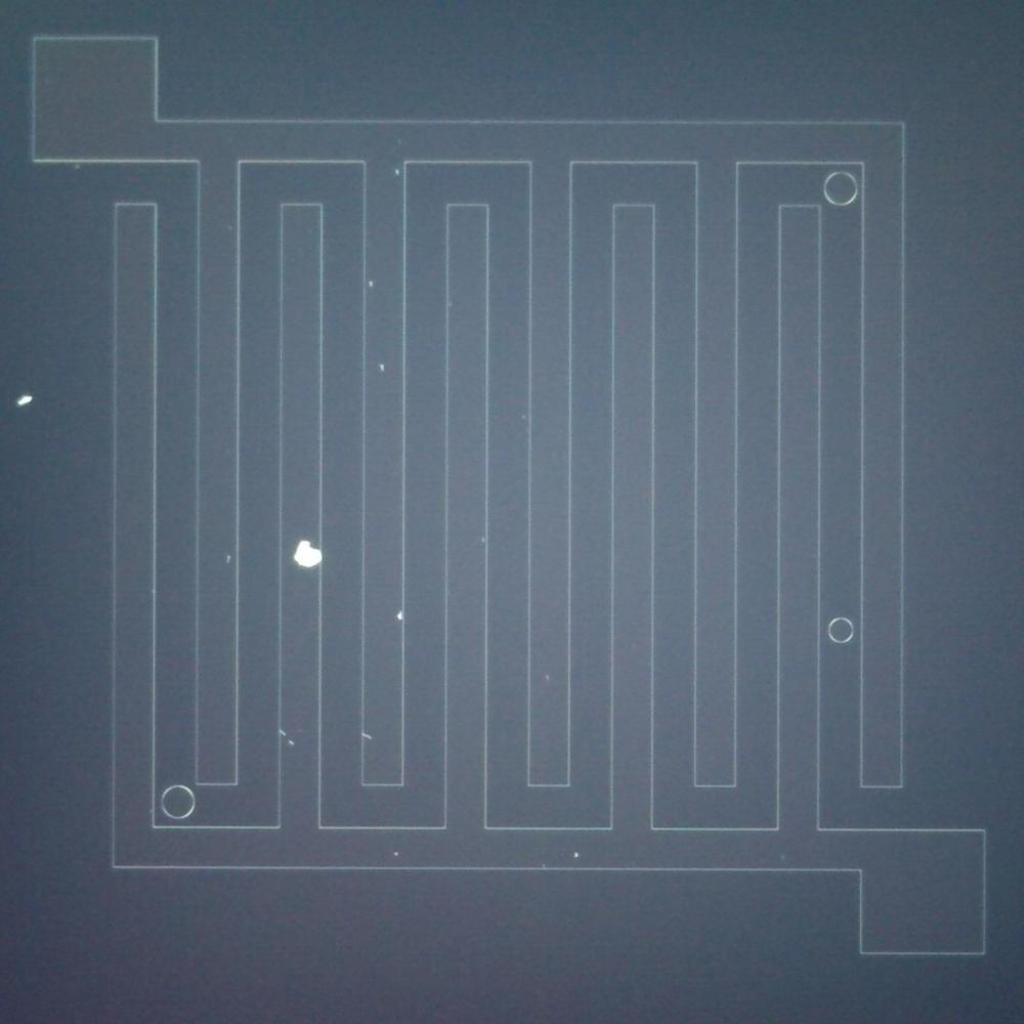circle: (820, 167, 860, 209), (156, 784, 199, 823), (825, 616, 856, 647)
dot: (564, 840, 592, 864), (360, 271, 382, 294), (370, 355, 392, 377)
spot: (291, 534, 321, 571), (12, 391, 33, 410)
